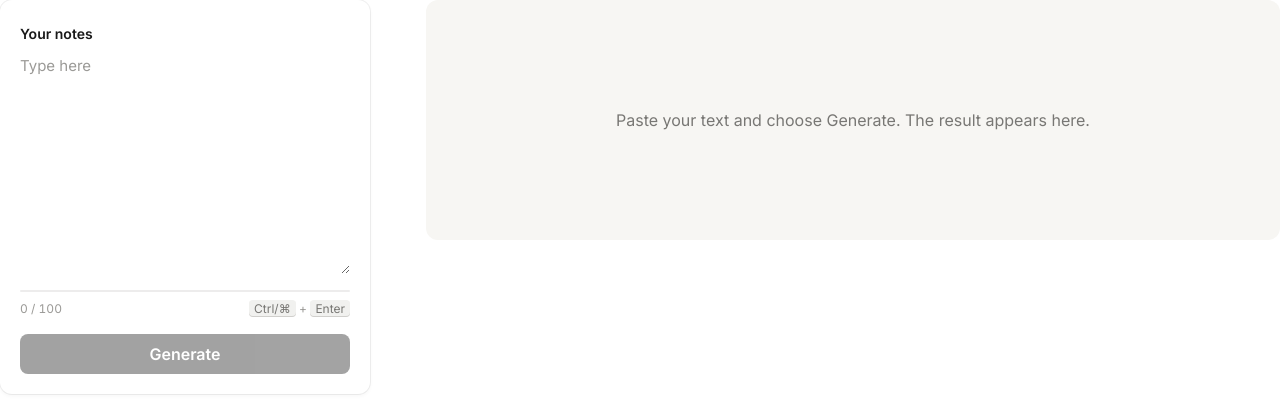
it: Workspace › shows the empty state
The width and height of the screenshot is (1280, 414).
In the text box: (185, 164) [20,54,350,274], type "notes"
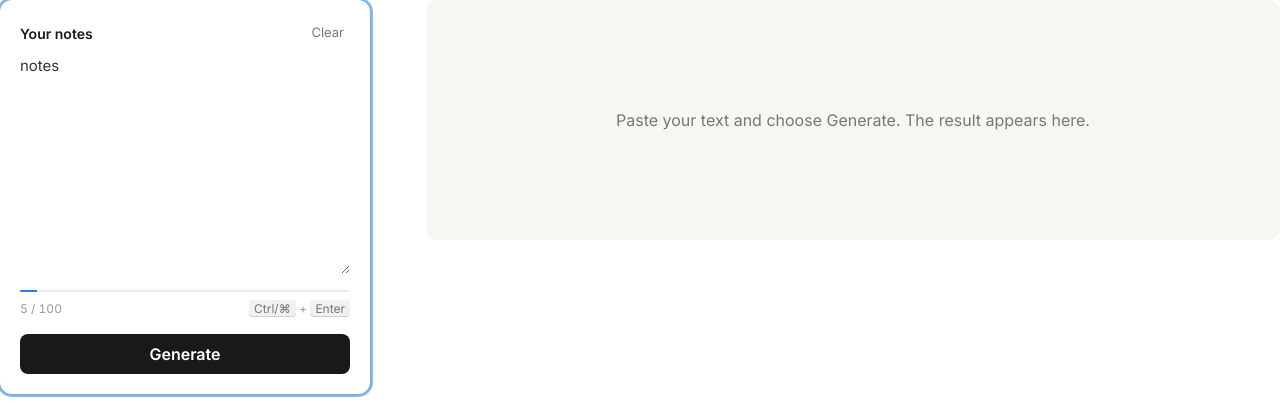
Click the button "Generate": (185, 354) [20,334,350,374]
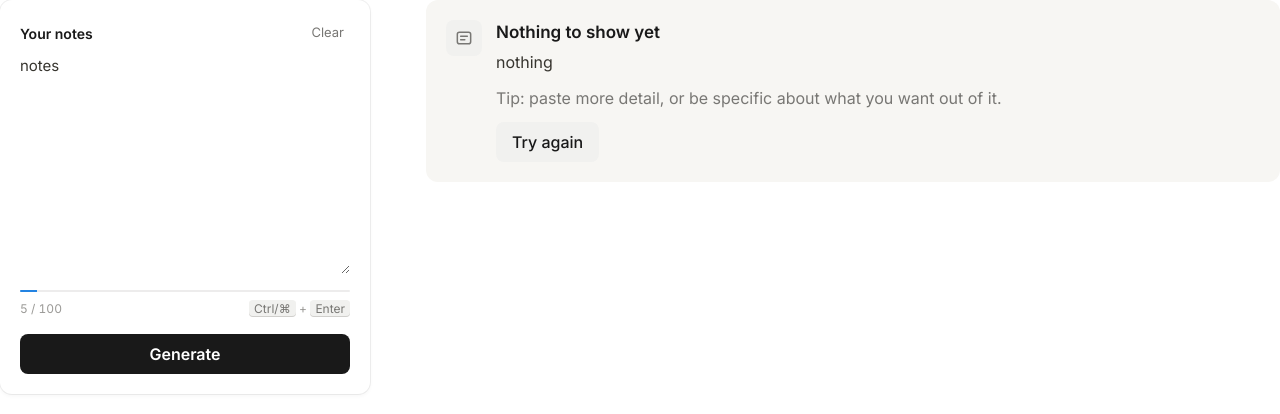
Expected: the heading "Nothing to show yet" is shown, [496,22,660,42]
